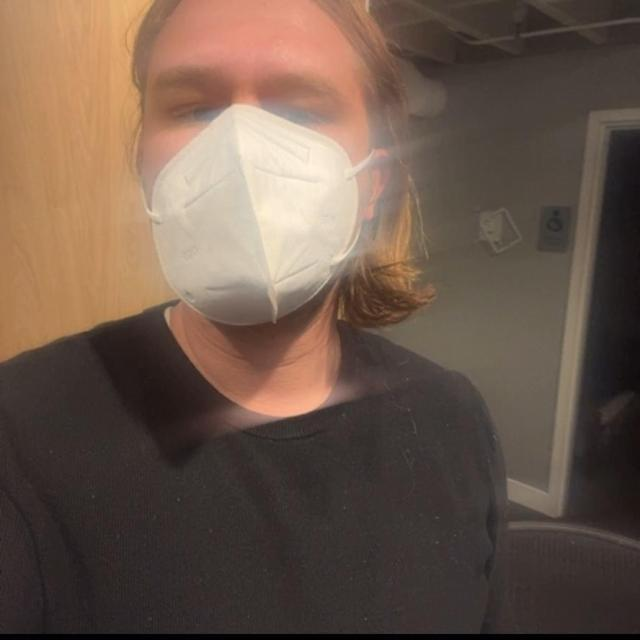no hat: (106, 0, 436, 344)
